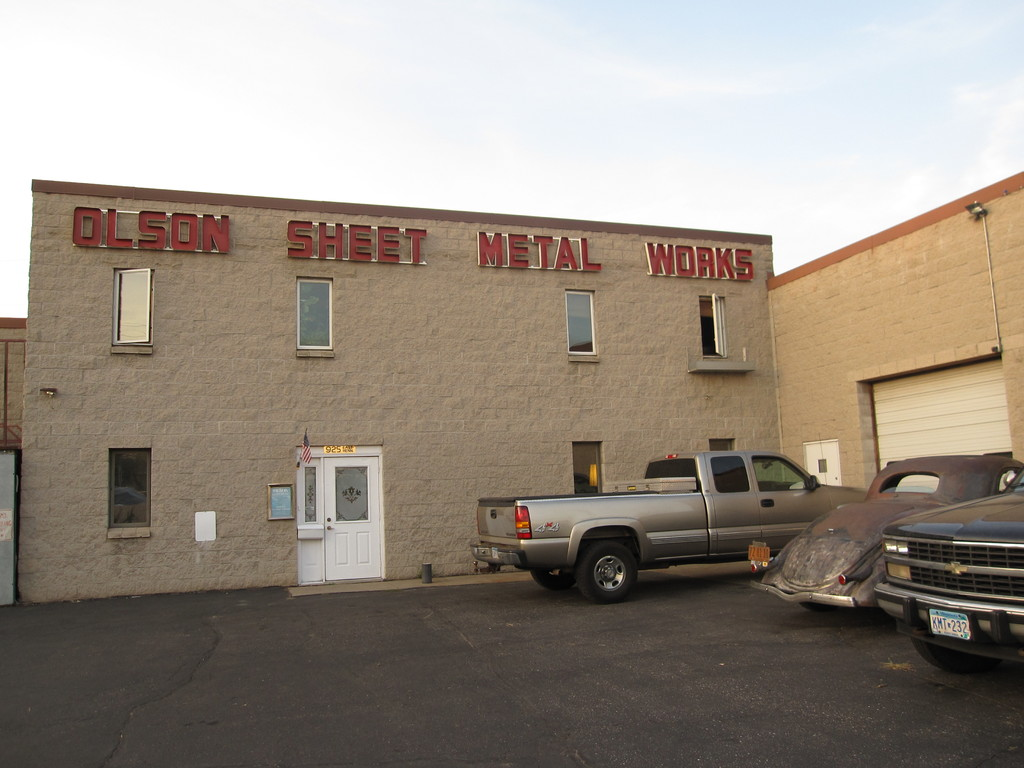Car: (754, 454, 1020, 608), (869, 469, 1023, 672)
